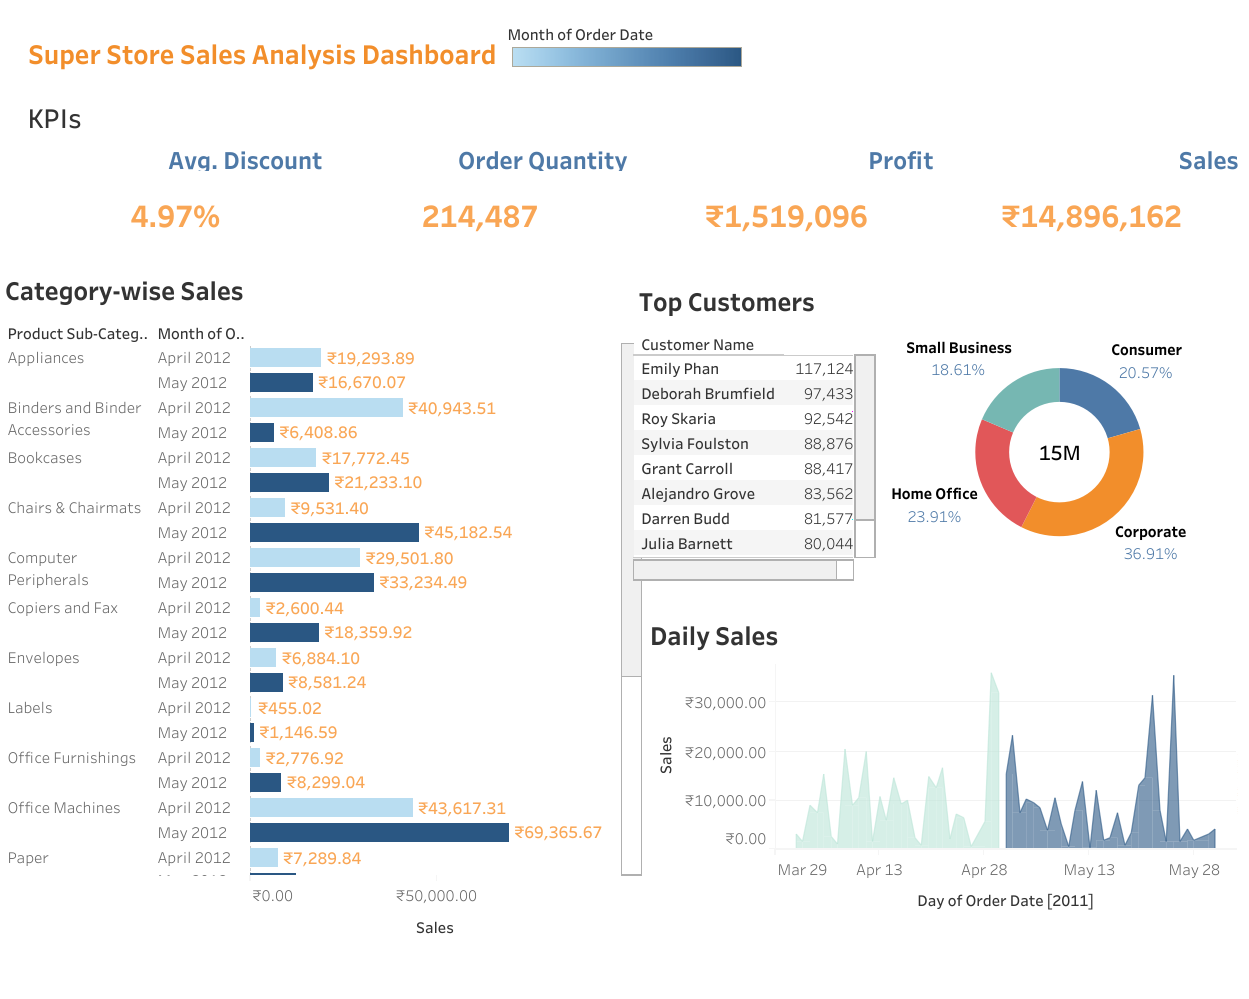

What the dashboard file says about the page in this screenshot:
{"tool":"tableau","page":{"name":"Dashboard 1","canvas":[1000,800],"ordinal":0},"visuals":[{"type":"text","box":[20,14,660,56]},{"type":"legend","title":"Category wise sales","param":"[federated.1fogq061gl9heo10claam1vw19yl].[tmn:Order Date:qk]","box":[406,14,192,45]},{"type":"worksheet","title":"KPIs","mark":"Automatic","box":[18,73,977,135]},{"type":"worksheet","title":"Category wise sales","mark":"Bar","rows":["Product Sub-Category","Order Date"],"cols":["Sales"],"box":[0,212,514,545]},{"type":"worksheet","title":"top customers","mark":"Automatic","rows":["Customer Name"],"box":[507,221,194,272]},{"type":"worksheet","title":"segment","mark":"Pie","cols":["Calculation_857372783929581656","Calculation_857372783929606234"],"box":[712,235,271,253]},{"type":"worksheet","title":"Daily sales","mark":"Area","rows":["Sales"],"cols":["Order Date"],"box":[516,488,473,248]}]}

Visuals, with their boxes in screenshot pixels (x1, y1, x2, y2), scaled from the page's 1000x800 canvas onto the 1249x999 screenshot:
text: BBox(25, 17, 849, 87)
"Category wise sales" legend: BBox(507, 17, 747, 74)
"KPIs" worksheet: BBox(22, 91, 1243, 260)
"Category wise sales" worksheet (Bar marks): BBox(0, 265, 642, 945)
"top customers" worksheet: BBox(633, 276, 876, 616)
"segment" worksheet (Pie marks): BBox(889, 293, 1228, 609)
"Daily sales" worksheet (Area marks): BBox(644, 609, 1235, 919)
